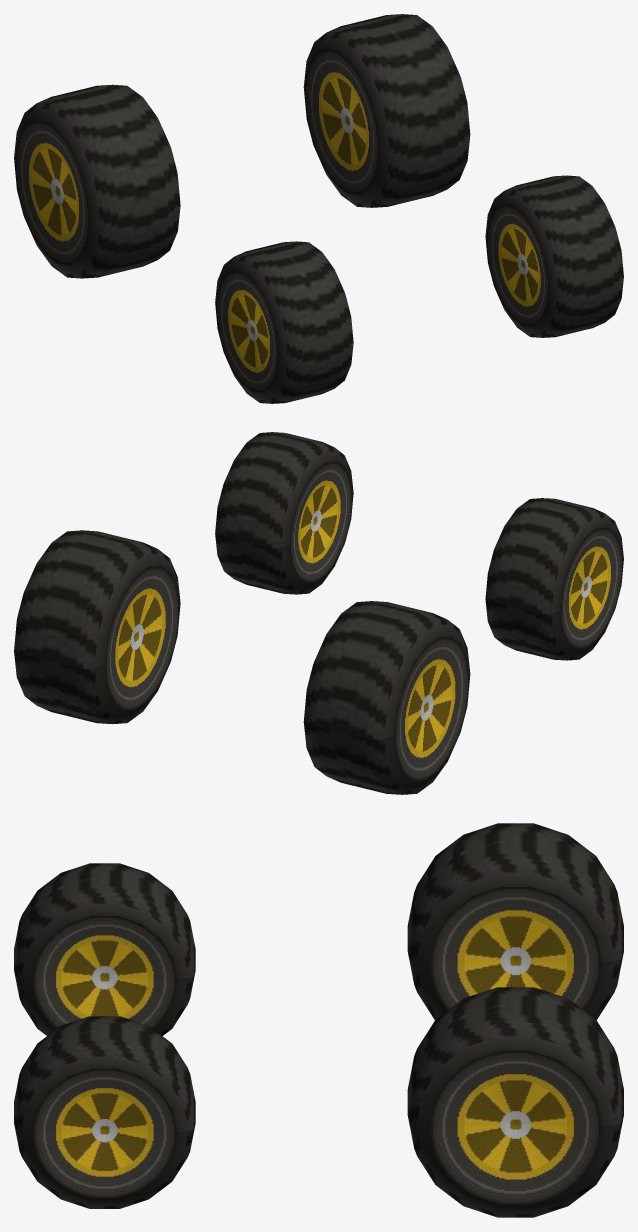
Rendered from wheels_big.glb.
The picture shows the model from 3 angles, top to bottom: view 1: azimuth 30°, elevation 25°; view 2: azimuth 150°, elevation 25°; view 3: azimuth 270°, elevation 25°; orthographic projection. The views are drawn at different scales.
Visible parts, largest first — view 1: Wheel_R, Wheel_FR, Wheel_FL; view 2: Wheel_R, Wheel_FL, Wheel_FR; view 3: Wheel_R, Wheel_FR, Wheel_FL.
Boxes of the visible parts, x1,y1,x2,y2 form: Wheel_R: (14, 14, 470, 278); Wheel_FR: (485, 175, 623, 337); Wheel_FL: (215, 241, 353, 403); Wheel_R: (14, 530, 470, 794); Wheel_FL: (485, 498, 623, 660); Wheel_FR: (215, 432, 353, 594); Wheel_R: (407, 823, 623, 1217); Wheel_FR: (14, 1016, 195, 1208); Wheel_FL: (14, 863, 195, 1035).
Size of the model in its own units: 2.35 by 0.986 by 2.82.
Materials: 1 (1 with a texture image).
